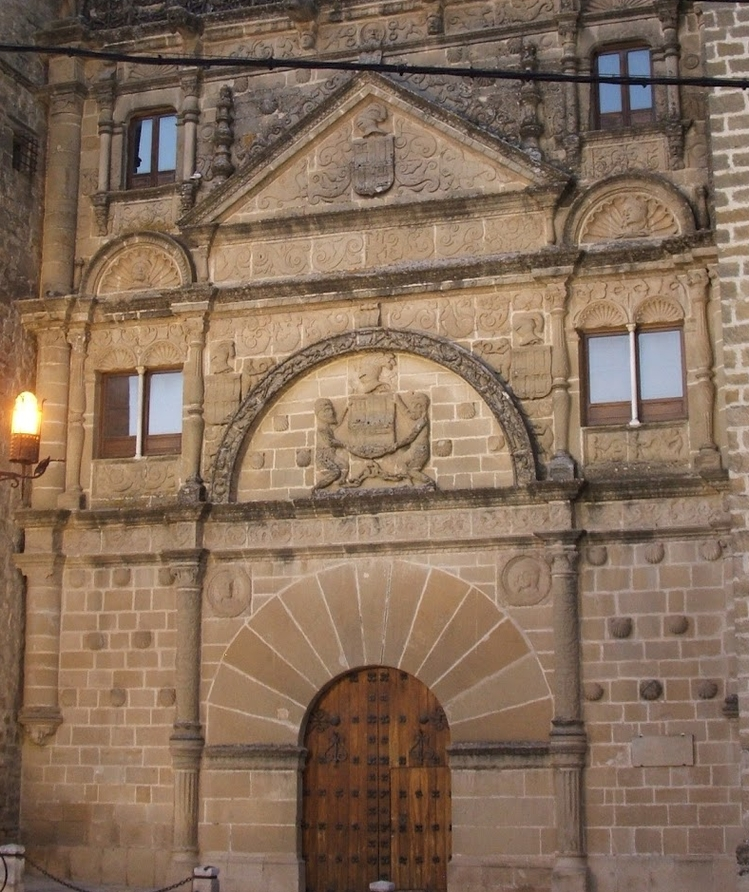arco-medio-punto: (286, 657, 462, 776)
fronton: (168, 64, 559, 240)
